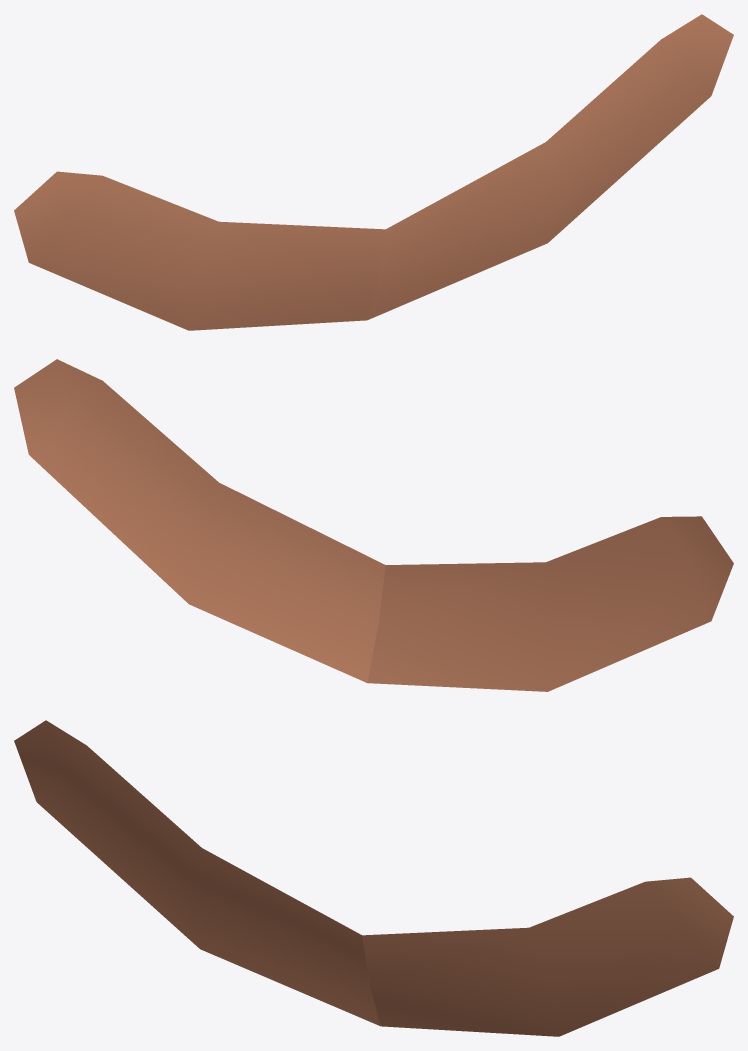
File: Mouth_White_1.fbx
3 renders of one model, top to bottom at view 1: azimuth 30°, elevation 25°; view 2: azimuth 150°, elevation 25°; view 3: azimuth 330°, elevation 25°, orthographic.
Parts seen in each view (by area): view 1: Mouth_White_1; view 2: Mouth_White_1; view 3: Mouth_White_1.
Part boxes in pixels (x1=…): Mouth_White_1: x1=14, y1=14, x2=733, y2=330; Mouth_White_1: x1=14, y1=359, x2=733, y2=691; Mouth_White_1: x1=14, y1=720, x2=733, y2=1036.
Size of the model in its own units: 7.29 by 2.29 by 0.3234.
